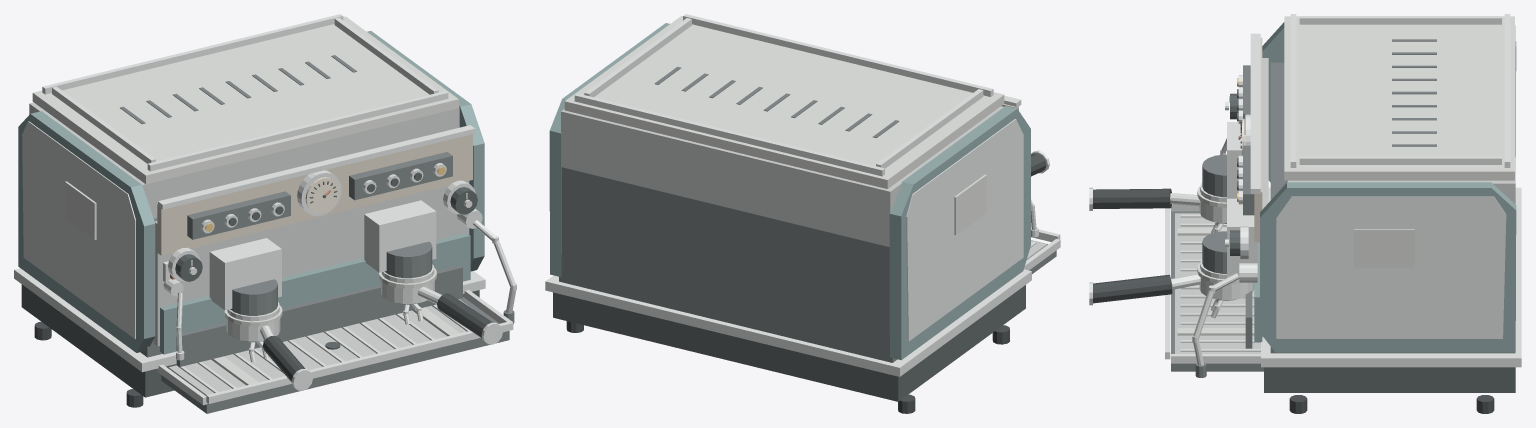
File: coffee_shift_espresso_machine.glb
3 views of the same model, side by side, from view 1: azimuth 30°, elevation 25°; view 2: azimuth 150°, elevation 25°; view 3: azimuth 270°, elevation 25° (orthographic). The views are drawn at different scales.
Parts seen in each view (by area): view 1: CupWarmerTop, SidePanel_InnerRim_Left, Panel_FrontBrushed, Panel_UpperFrontCream, SidePanel_Left, Body_RearRaised, BrewBay_BackSplash, Panel_FrontBelowGroups, DripTray_Surface, Chassis_LowerBlack, GroupHead_Left_Mount, GroupHead_Right_Mount (+25 smaller); view 2: Body_Main, CupWarmerTop, Body_RearRaised, SidePanel_InnerRim_Left, Chassis_LowerBlack, SidePanel_Left, LowerTrim_Chrome, CupRail_Rear, CupRail_Front, SidePanel_Right, SideBadge_Left, CupRail_Left (+1 smaller); view 3: CupWarmerTop, SidePanel_InnerRim_Right, SidePanel_Right, Chassis_LowerBlack, LowerTrim_Chrome, DripTray_Surface, Body_Main, SideBadge_Right, CupRail_Left, CupRail_Right, Panel_UpperFrontChromeline, Portafilter_Right_HandleGrip (+21 smaller).
Boxes of the visible parts, x1,y1,x2,y2 form: CupWarmerTop: [32, 16, 458, 184]; SidePanel_InnerRim_Left: [22, 121, 135, 338]; Panel_FrontBrushed: [154, 181, 469, 346]; Panel_UpperFrontCream: [157, 134, 472, 255]; SidePanel_Left: [18, 111, 155, 352]; Body_RearRaised: [29, 102, 459, 218]; BrewBay_BackSplash: [176, 265, 462, 366]; Panel_FrontBelowGroups: [160, 233, 470, 354]; DripTray_Surface: [168, 299, 470, 395]; Chassis_LowerBlack: [21, 284, 479, 397]; GroupHead_Left_Mount: [209, 238, 281, 310]; GroupHead_Right_Mount: [364, 200, 436, 272]; Body_Main: [559, 167, 897, 362]; CupWarmerTop: [564, 16, 1004, 188]; Body_RearRaised: [561, 106, 1003, 246]; SidePanel_InnerRim_Left: [906, 119, 1023, 341]; Chassis_LowerBlack: [553, 285, 1025, 401]; SidePanel_Left: [889, 106, 1030, 360]; LowerTrim_Chrome: [545, 269, 1031, 376]; CupRail_Rear: [574, 93, 884, 176]; CupRail_Front: [683, 14, 993, 96]; SidePanel_Right: [549, 23, 669, 277]; SideBadge_Left: [954, 174, 986, 235]; CupRail_Left: [876, 89, 983, 168]; CupWarmerTop: [1284, 16, 1514, 180]; SidePanel_InnerRim_Right: [1276, 196, 1506, 338]; SidePanel_Right: [1260, 182, 1516, 352]; Chassis_LowerBlack: [1264, 367, 1515, 392]; LowerTrim_Chrome: [1261, 187, 1521, 367]; DripTray_Surface: [1175, 213, 1260, 353]; Body_Main: [1270, 62, 1514, 353]; SideBadge_Right: [1354, 229, 1414, 267]; CupRail_Left: [1299, 16, 1501, 24]; CupRail_Right: [1299, 156, 1501, 164]; Panel_UpperFrontChromeline: [1250, 33, 1260, 193]; Portafilter_Right_HandleGrip: [1093, 274, 1172, 303].
Size of the model in its own units: 0.742 by 0.4885 by 0.7865.
